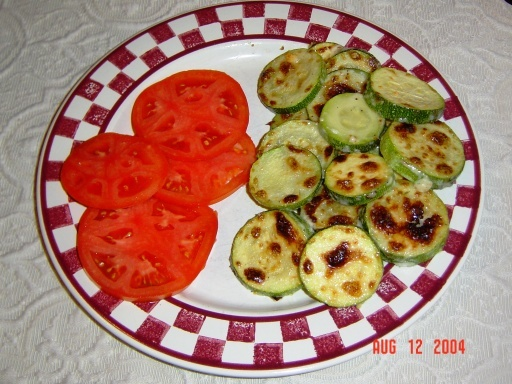background: (49, 25, 373, 185)
